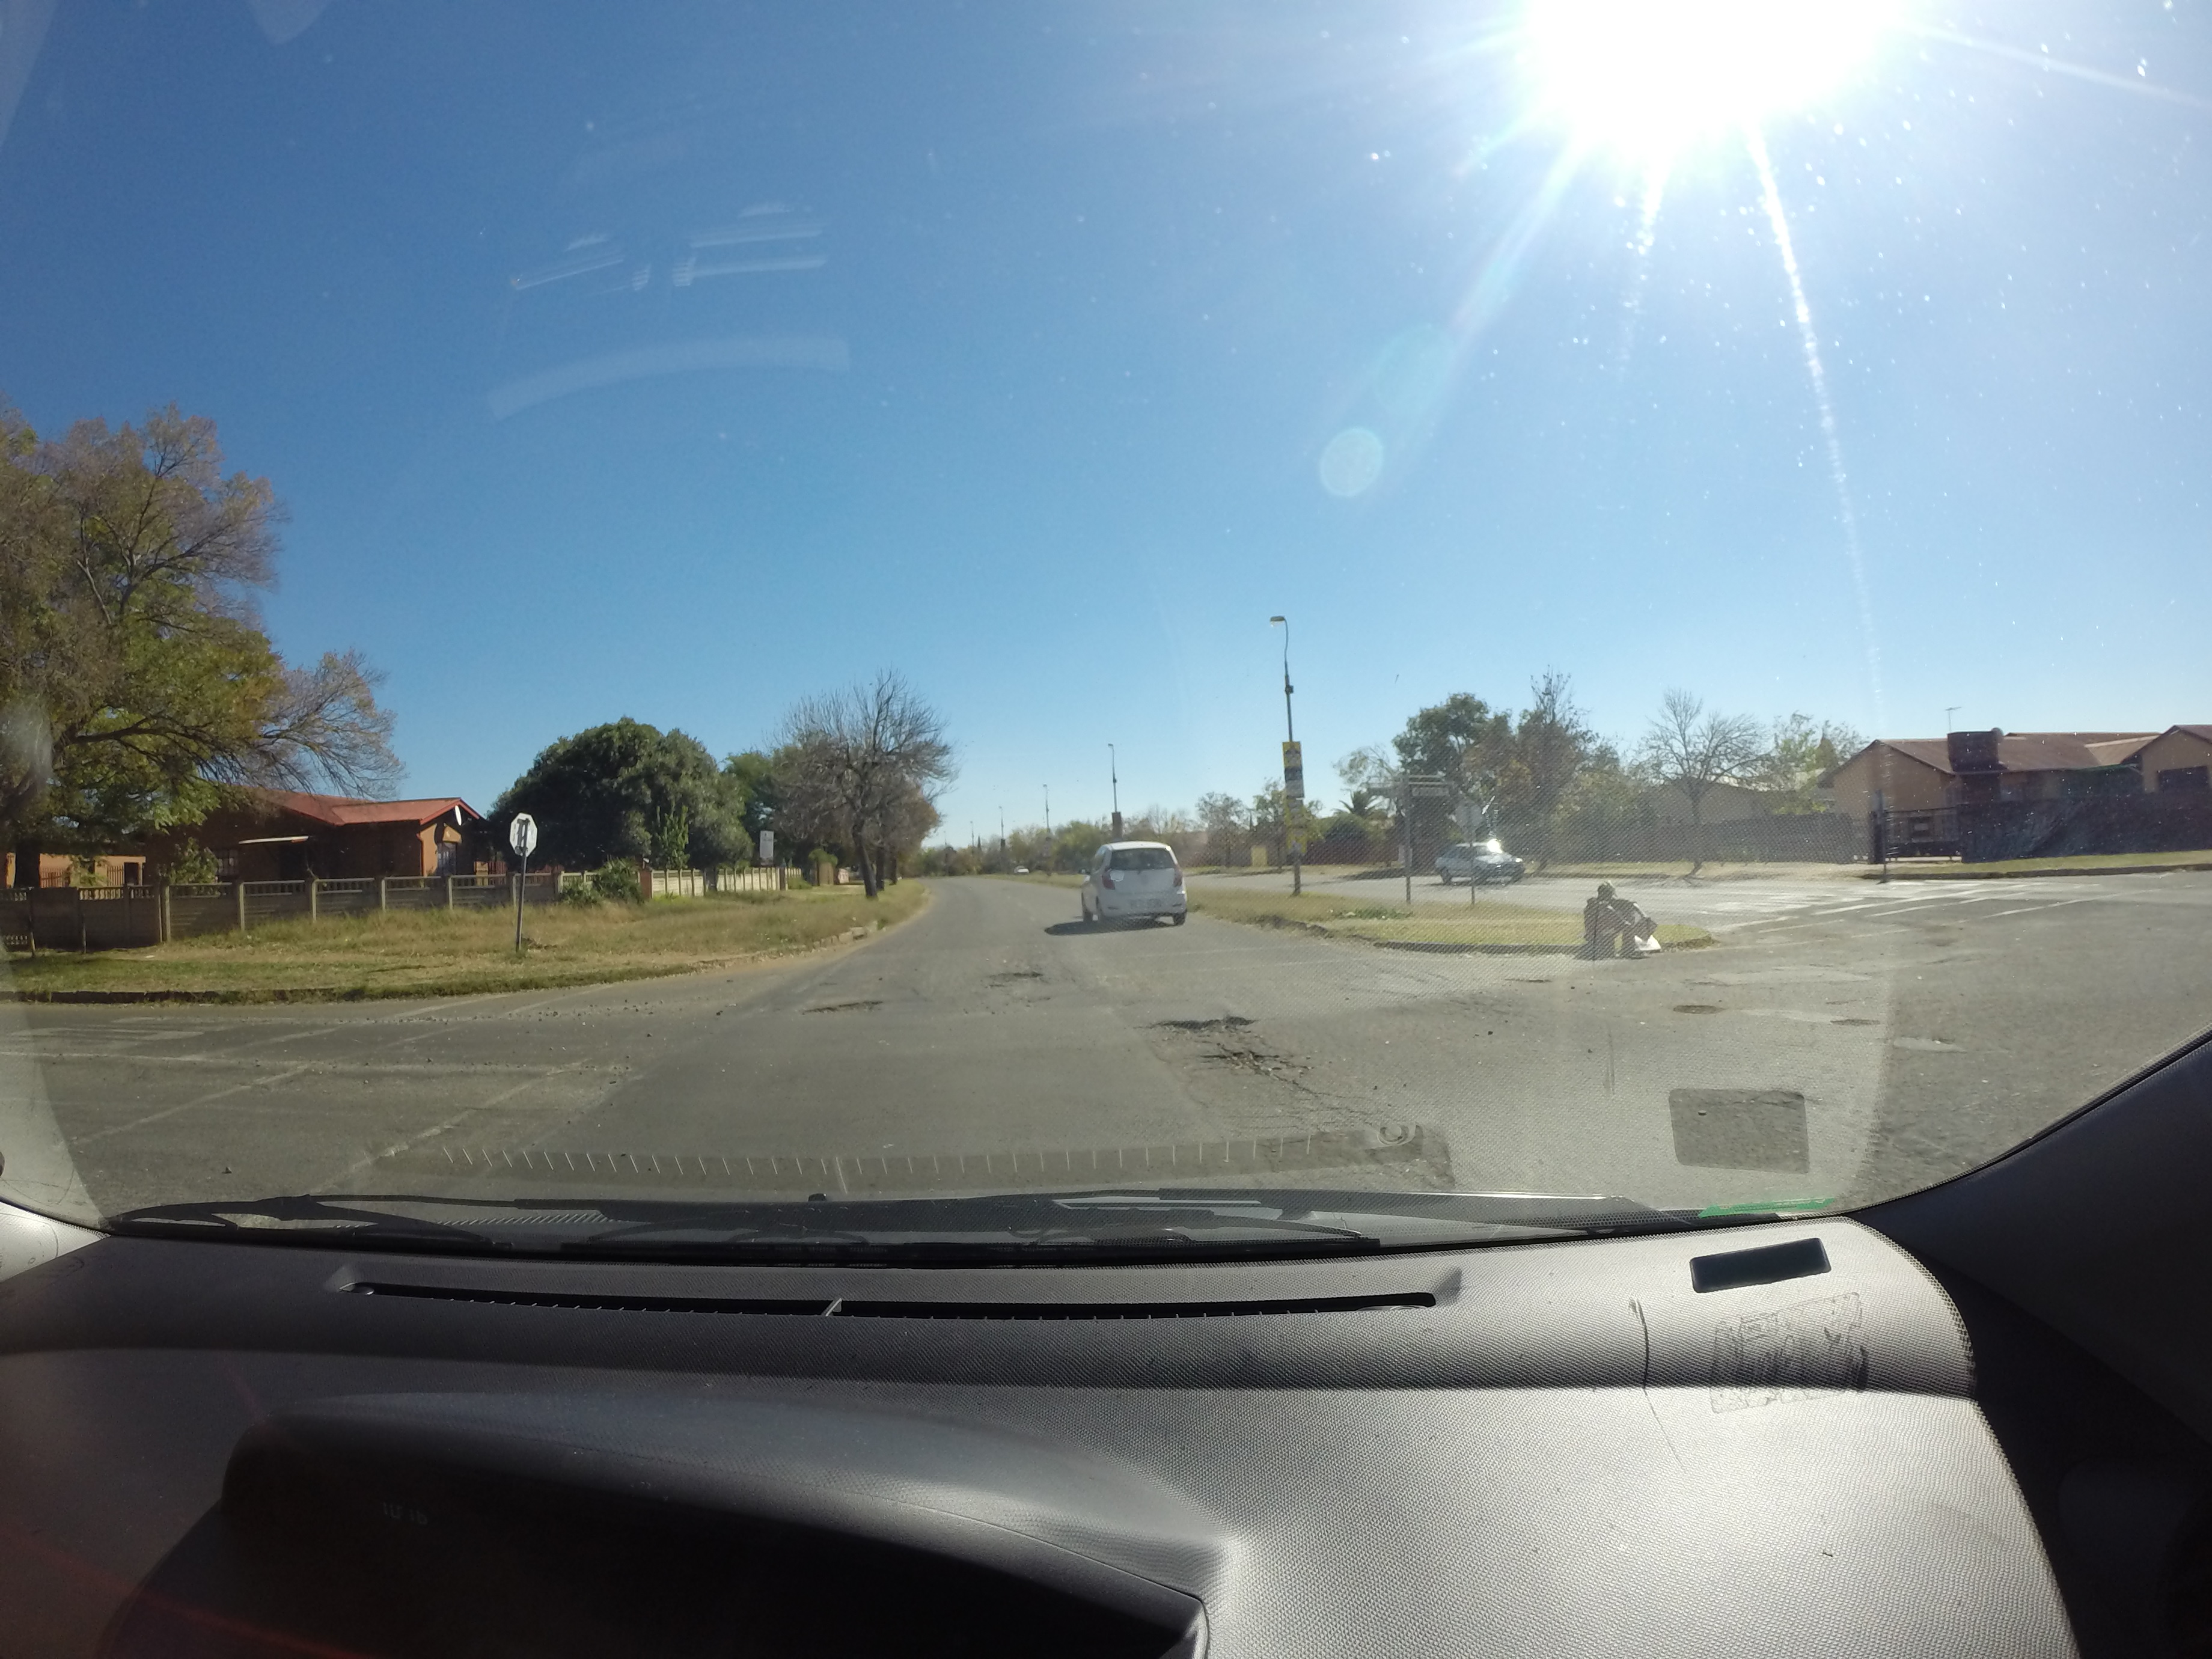pothole: (1111, 974, 1338, 1127)
